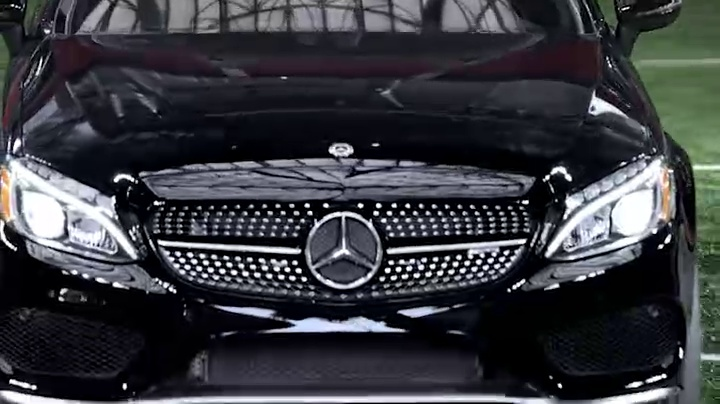amg: (1, 1, 702, 404)
